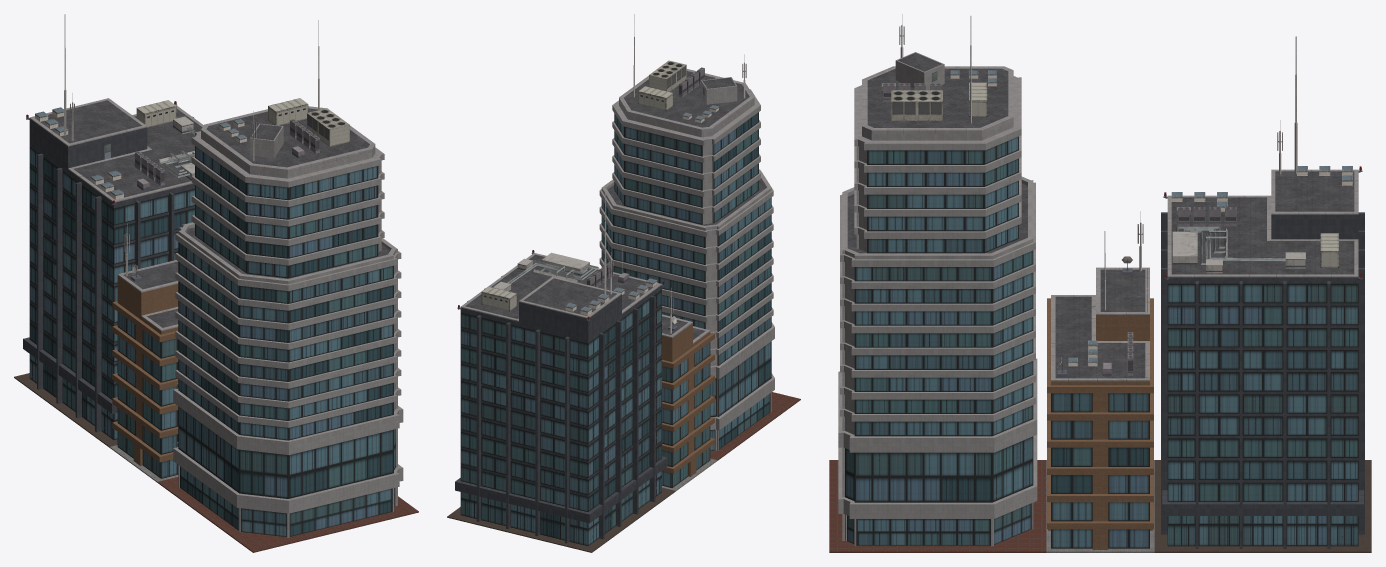
The model's file is jctlowBldSetH.fbx.
The picture shows the model from 3 angles, left to right: view 1: azimuth 30°, elevation 25°; view 2: azimuth 150°, elevation 25°; view 3: azimuth 270°, elevation 25°; orthographic projection. The views are drawn at different scales.
Visible parts, largest first — view 1: jctlowBldSetH; view 2: jctlowBldSetH; view 3: jctlowBldSetH.
Part boxes in pixels (box(x1,y1,x2,y2)): jctlowBldSetH: box(14, 14, 418, 552); jctlowBldSetH: box(447, 14, 800, 552); jctlowBldSetH: box(829, 14, 1371, 552).
Size of the model in its own units: 2400 by 6307 by 6000.
Materials: 10 (10 with a texture image).
